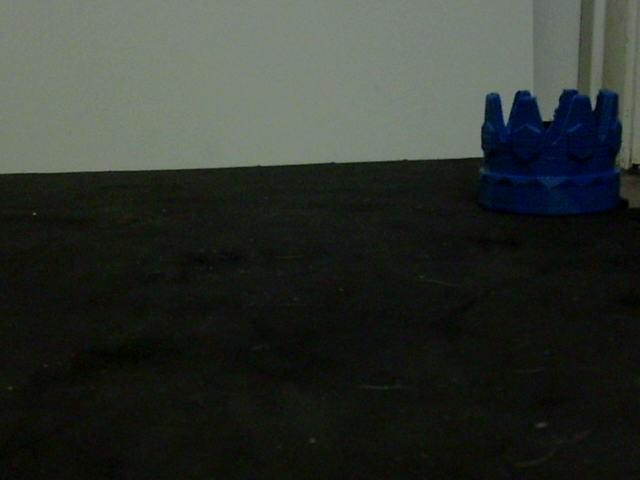crown: (474, 87, 624, 216)
